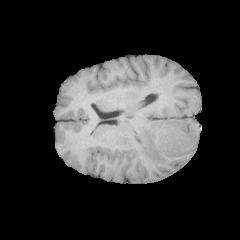glioma: (133, 119, 195, 164)
